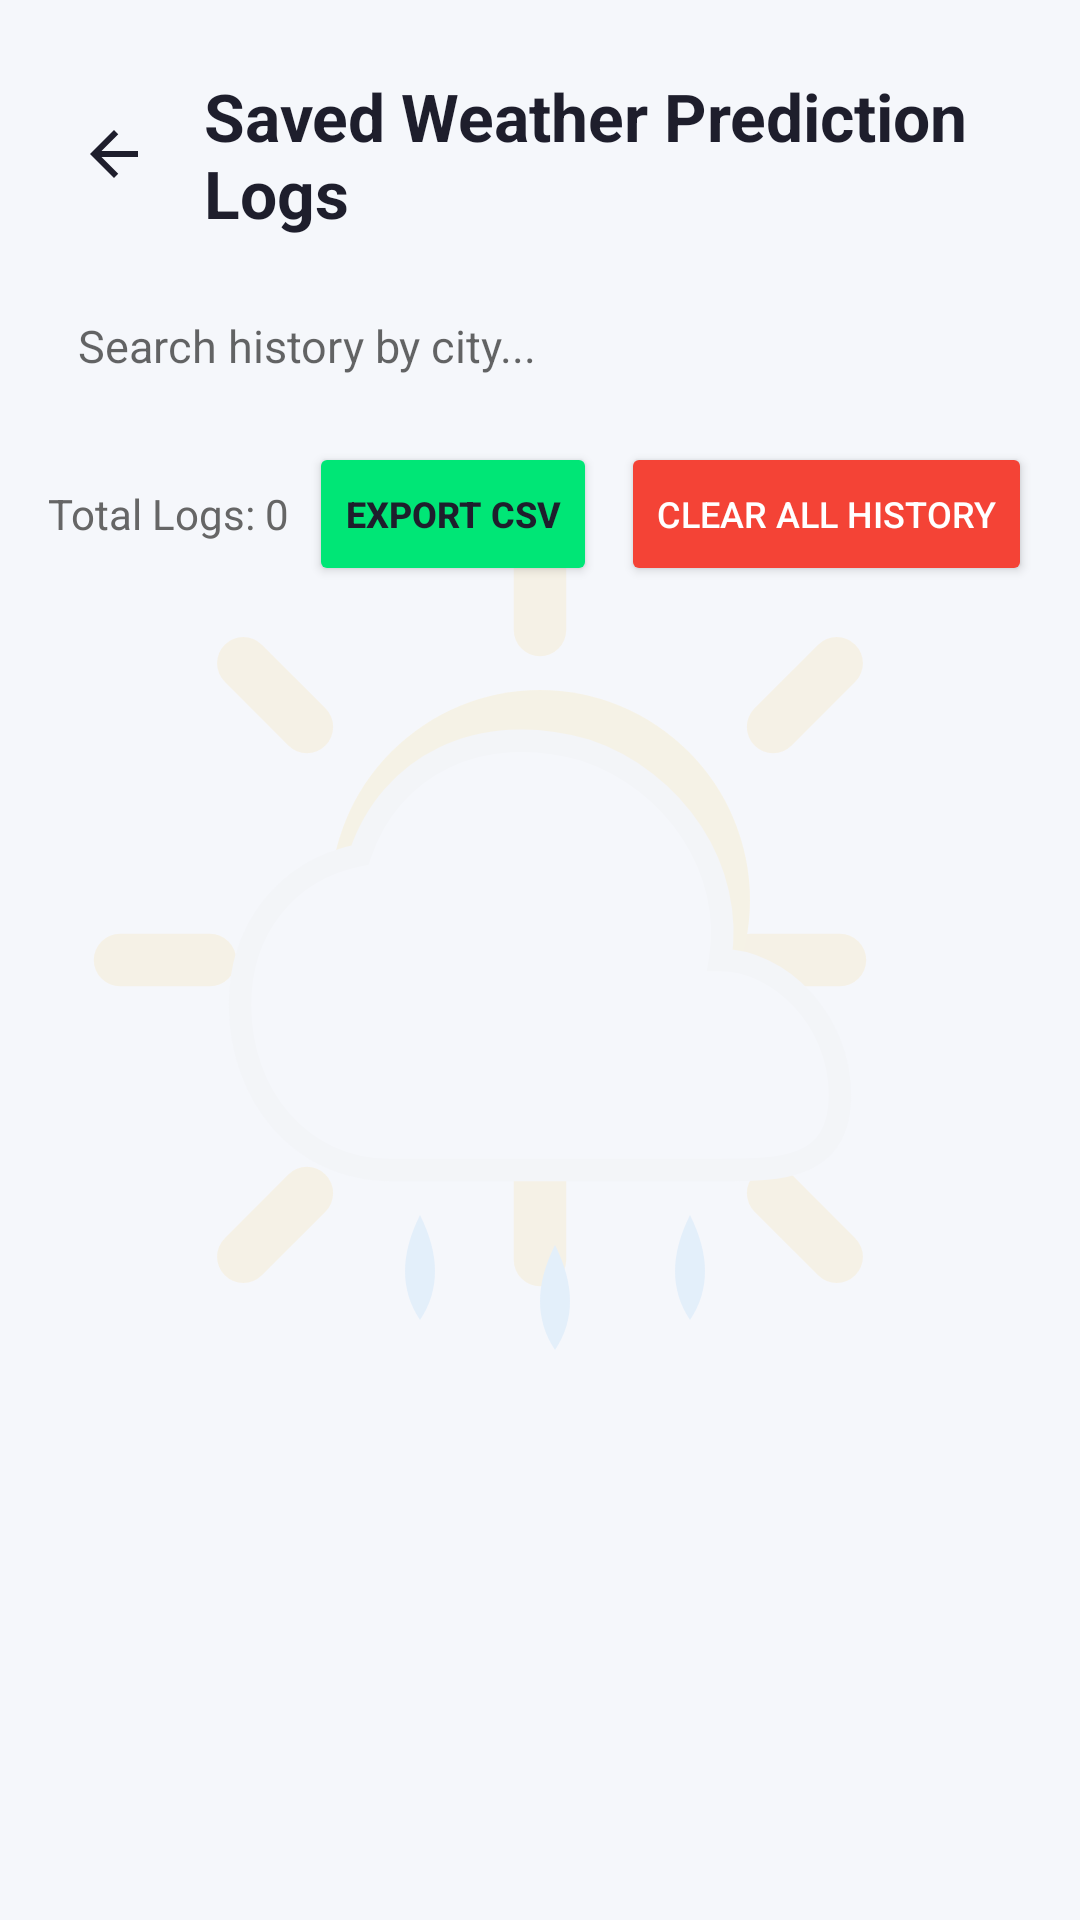

Where to tap for icons on this 1080 x 1920 app screen, as point (x, y):
Back to Home: point (114, 154)
